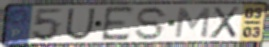5: (31, 7, 65, 42)
E: (100, 6, 136, 43)
M: (173, 6, 213, 39)
S: (134, 5, 170, 41)
U: (64, 7, 98, 41)
X: (208, 5, 242, 40)
